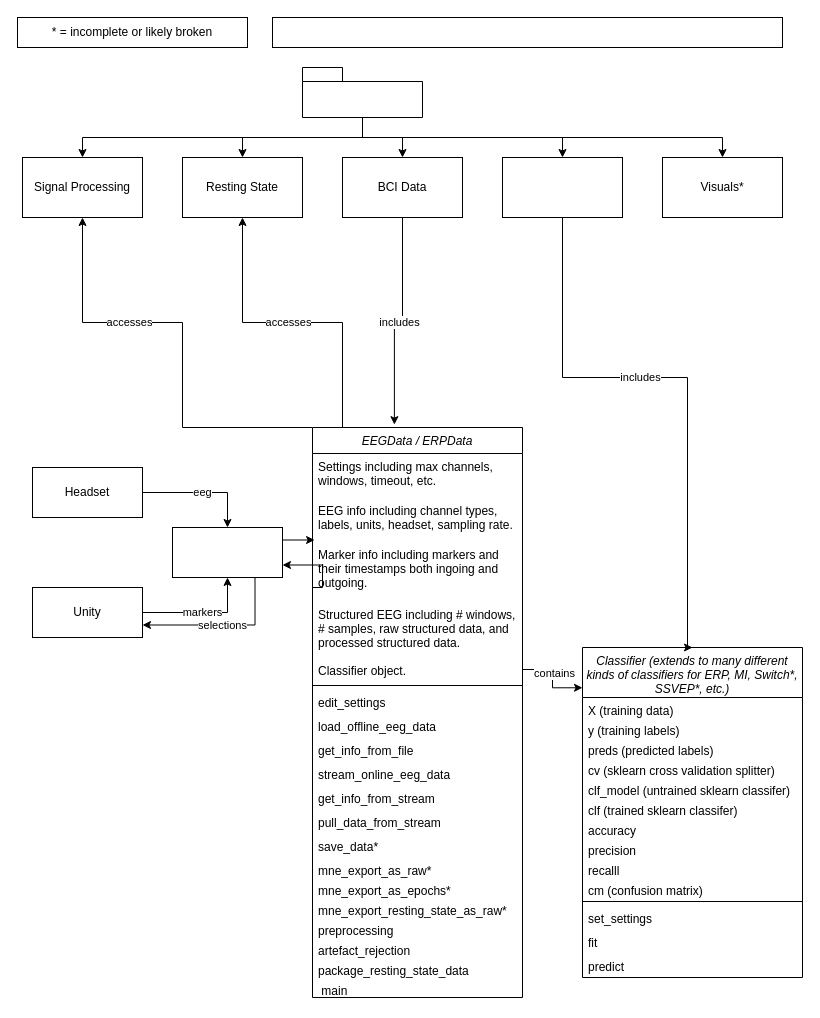
The diagram is 820 pixels wide and 1018 high, and some of its shapes have lost their labels. The centre of each missing label's shape, as x and y in pixels:
A diagram of BCI Essentials Python as it exists today (May 4, 2023): point 527,32
BCI Essentials Python: point 362,92
Classification: point 562,187
LSL: point 227,552
